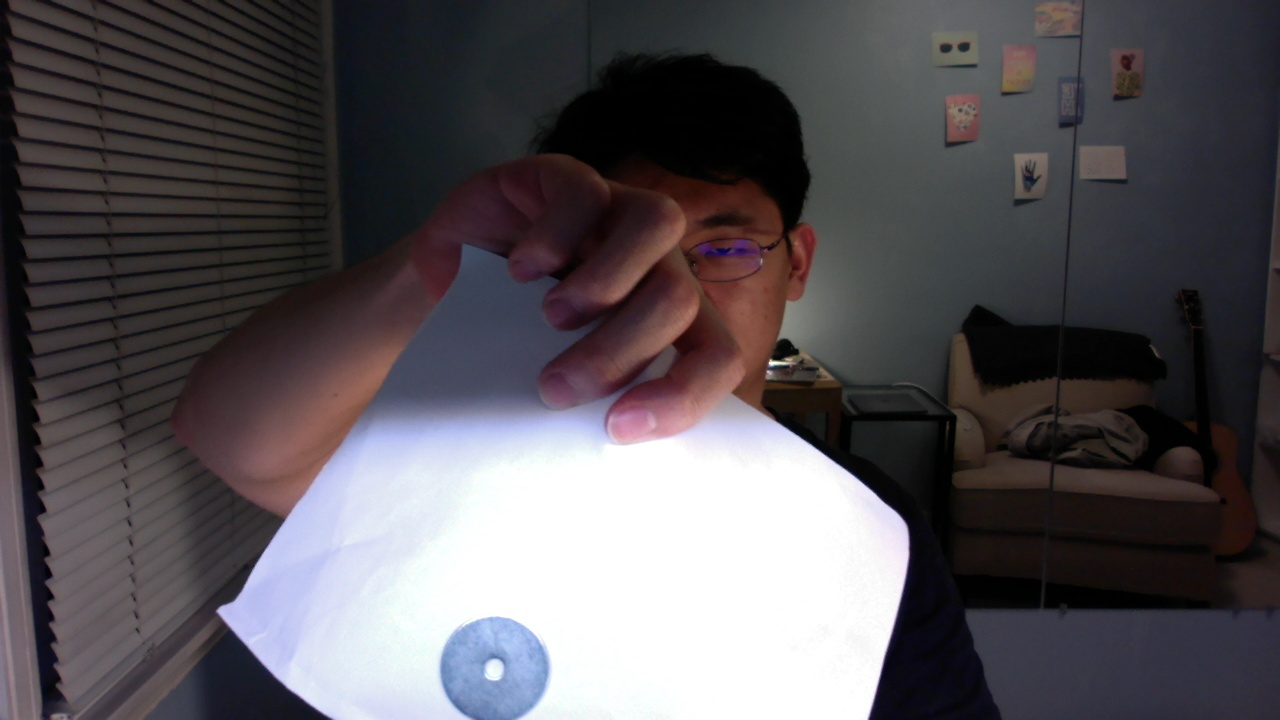NonDetectiveWashers: (442, 617, 550, 720)
